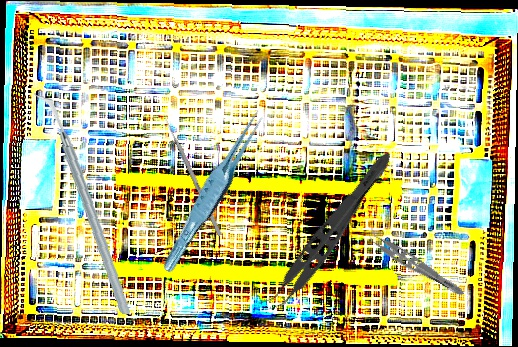Chopper: (19, 92, 147, 315)
Pusher: (161, 112, 223, 237)
Tissue Forceps: (256, 140, 397, 322), (150, 105, 280, 275), (362, 226, 471, 299)
